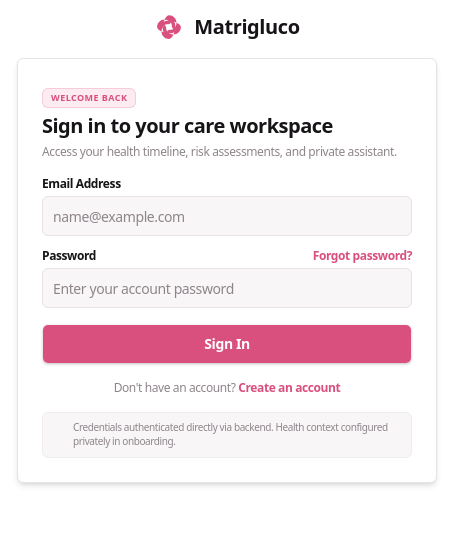
LoginPage › displays validation errors for invalid input
This screenshot has width=455, height=544.
Click the button "Sign In". click: [227, 344]
box: [42,324,412,364]
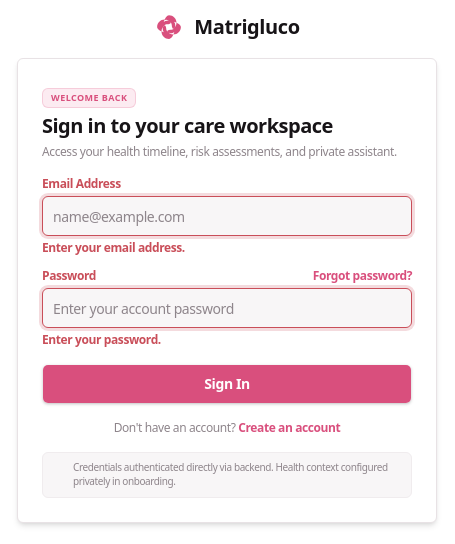
Expected: the text "Enter your email address." is shown, [42,239,185,256]
